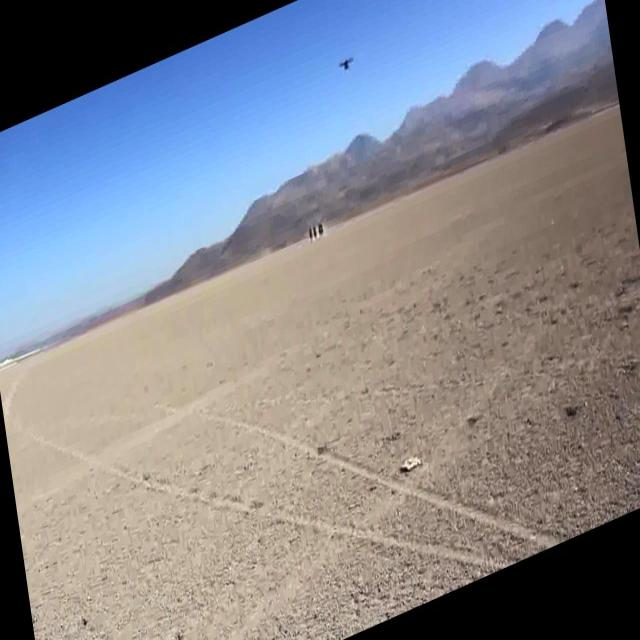drone: (337, 54, 355, 76)
